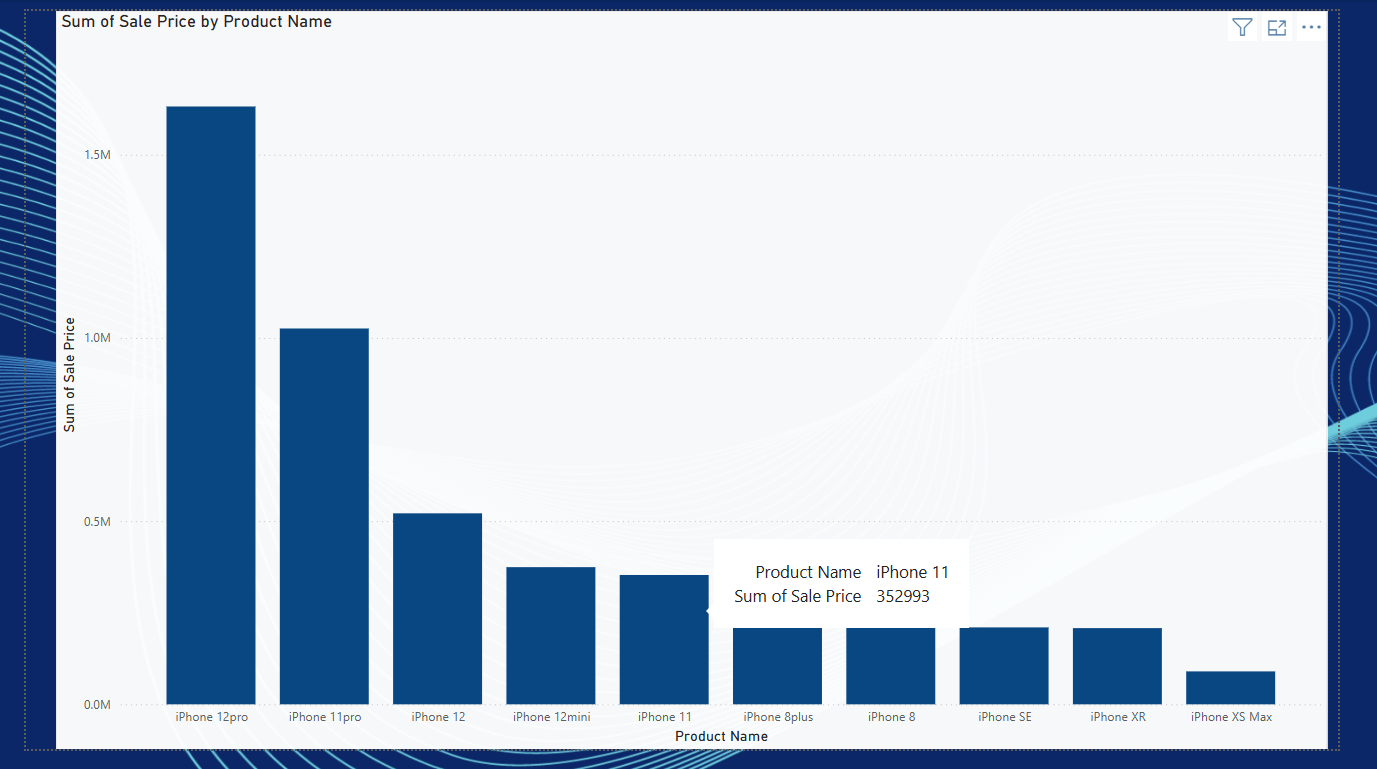

The page's visual inventory and layout, read from the dashboard file:
{"tool":"powerbi","page":{"name":"Page 3","canvas":[1280,720],"ordinal":2},"visuals":[{"type":"columnChart","fields":{"Category":["apple_products_data.Product Name"],"Y":["Sum(apple_products_data.Sale Price)"]},"box":[28.8,0,1240.5,720.4],"z":0}]}

Visuals, with their boxes in screenshot pixels (x1, y1, x2, y2), scaled from the page's 1280x720 canvas onto the 1377x769 screenshot:
columnChart - apple_products_data.Product Name x Sum(apple_products_data.Sale Price): x1=31 y1=0 x2=1365 y2=768
